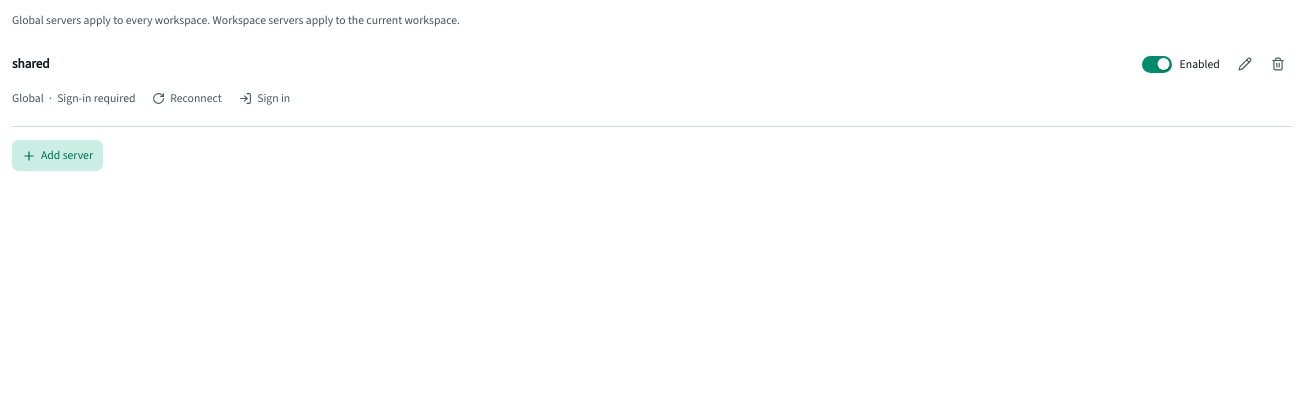
Test case: McpSettingsPanel › uses the selected workspace for global runtime actions and preserves OAuth polling
Click the button "Sign in".
click(265, 99)  # box 232,85 -> 297,113
Wait 1000 ms
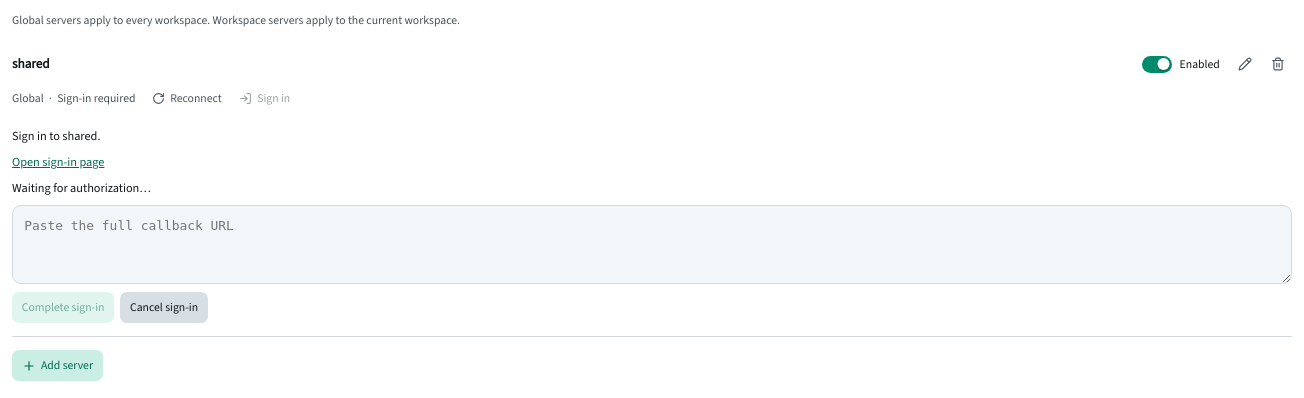
Check: the text "Open sign-in page" is shown, box 12,153 -> 104,171
